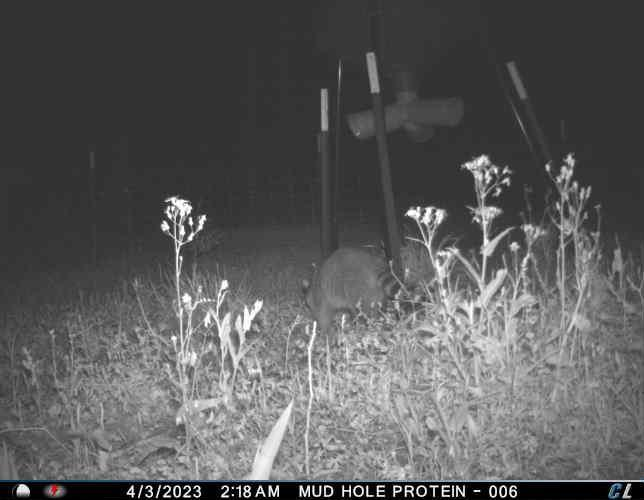Raccoon: (299, 242, 415, 334)
